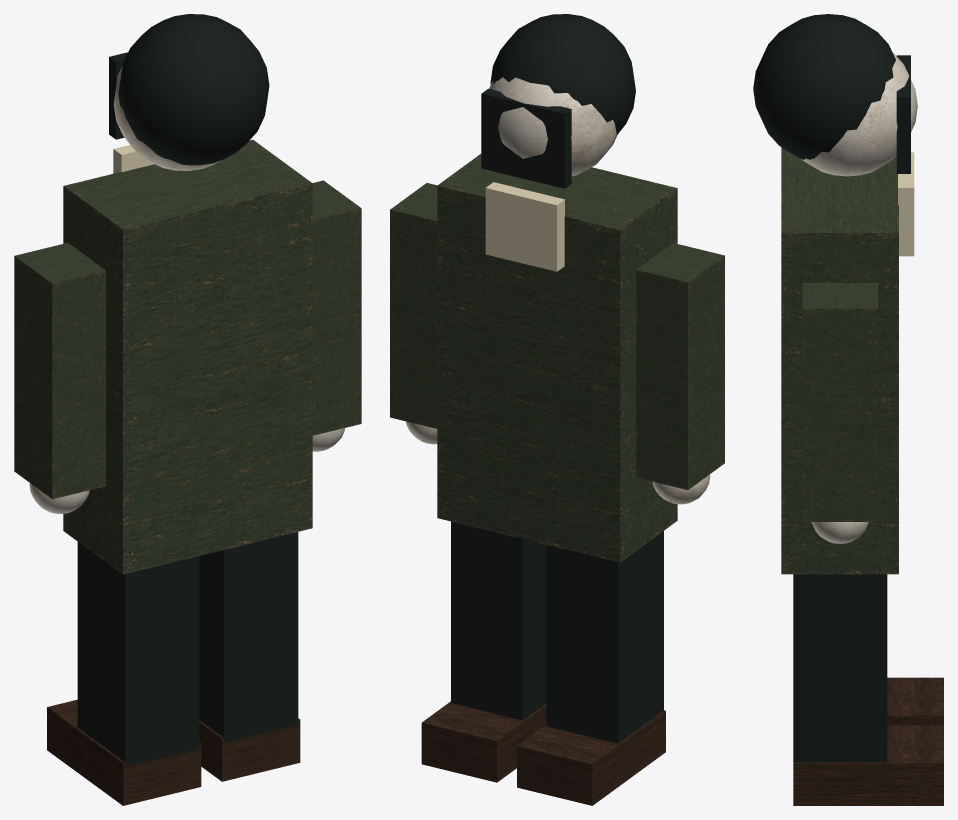
Rendered from clerk.glb.
The picture shows the model from 3 angles, left to right: view 1: azimuth 30°, elevation 25°; view 2: azimuth 150°, elevation 25°; view 3: azimuth 270°, elevation 25°; orthographic projection. The views are drawn at different scales.
Visible parts, largest first — view 1: coat, trouser (×2), sleeve (×2), hair, shoe (×2), face, hand, face_shadow, collar; view 2: coat, trouser (×2), sleeve (×2), shoe (×2), hair, collar, face, face_shadow, hand; view 3: coat, sleeve, trouser, hair, shoe (×2), face, face_shadow, collar, hand.
Boxes of the visible parts, x1,y1,x2,y2 form: coat: [63, 139, 312, 574]; trouser (×2): [77, 532, 298, 766]; sleeve (×2): [14, 180, 361, 499]; hair: [118, 14, 269, 165]; shoe (×2): [47, 699, 300, 805]; face: [113, 66, 221, 170]; hand: [29, 483, 89, 513]; face_shadow: [109, 52, 127, 139]; collar: [113, 145, 154, 173]; coat: [437, 154, 677, 562]; trouser (×2): [451, 521, 663, 743]; sleeve (×2): [390, 183, 724, 489]; shoe (×2): [421, 701, 665, 805]; hair: [490, 14, 635, 134]; collar: [485, 182, 564, 271]; face: [489, 77, 617, 176]; face_shadow: [481, 88, 571, 188]; hand: [652, 474, 710, 504]; coat: [781, 147, 898, 574]; sleeve: [802, 283, 877, 521]; trouser: [793, 574, 887, 762]; hair: [753, 14, 895, 159]; shoe (×2): [793, 677, 943, 805]; face: [801, 52, 917, 176]; face_shadow: [896, 55, 910, 173]; collar: [898, 152, 914, 256]; hand: [811, 522, 868, 543].
Size of the model in its own units: 0.75 by 1.74 by 0.405.
Materials: 5 (3 with a texture image).
